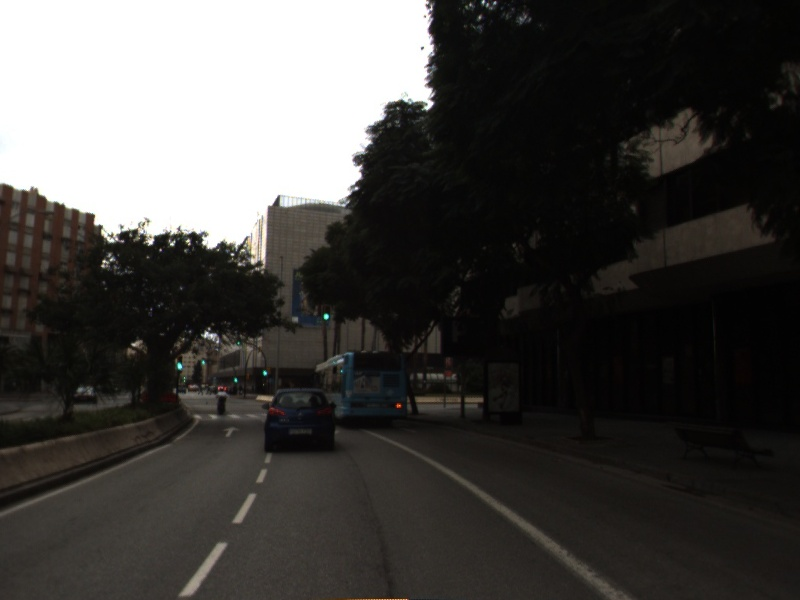STRAIGHT: (220, 425, 243, 439)
